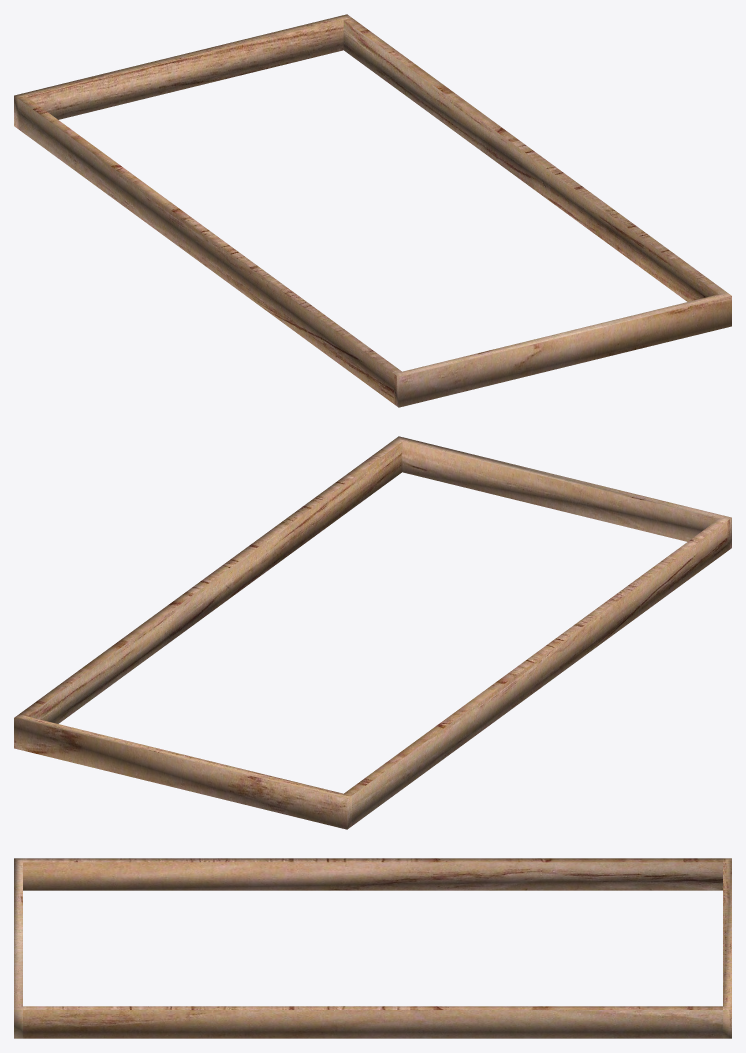
Rendered from blenderTexturedWalls.obj.
3 renders of one model, top to bottom at view 1: azimuth 30°, elevation 25°; view 2: azimuth 150°, elevation 25°; view 3: azimuth 270°, elevation 25°, orthographic. The views are drawn at different scales.
Parts seen in each view (by area): view 1: Cube.002; view 2: Cube.002; view 3: Cube.002.
Part boxes in pixels (left/top/right/bottom): Cube.002: left=14, top=14, right=731, bottom=407; Cube.002: left=14, top=436, right=731, bottom=829; Cube.002: left=14, top=858, right=731, bottom=1038.
Bounding box in the file's own units: 40 × 3.5 × 80.
1 material, 1 textured.
